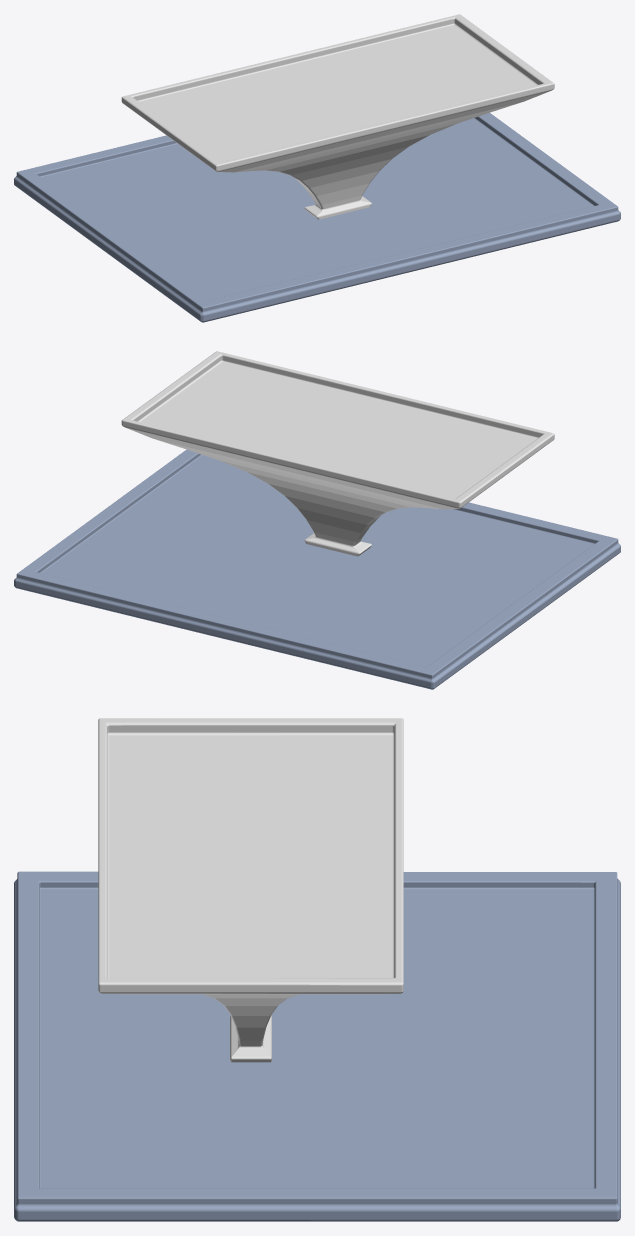
Rendered from CoinTaskTable2.fbx.
3 views of the same model, one above another, from view 1: azimuth 30°, elevation 25°; view 2: azimuth 150°, elevation 25°; view 3: azimuth 270°, elevation 25° (orthographic). The views are drawn at different scales.
Visible parts, largest first — view 1: Plane.027, Plane.028; view 2: Plane.027, Plane.028; view 3: Plane.027, Plane.028.
Part boxes in pixels (box(x1,y1,x2,y2)): Plane.027: box(14, 112, 620, 322); Plane.028: box(121, 14, 554, 219); Plane.027: box(14, 449, 620, 689); Plane.028: box(121, 351, 554, 556); Plane.027: box(14, 871, 620, 1221); Plane.028: box(98, 718, 403, 1062).
Bounding box in the file's own units: 365 × 107 × 283.
